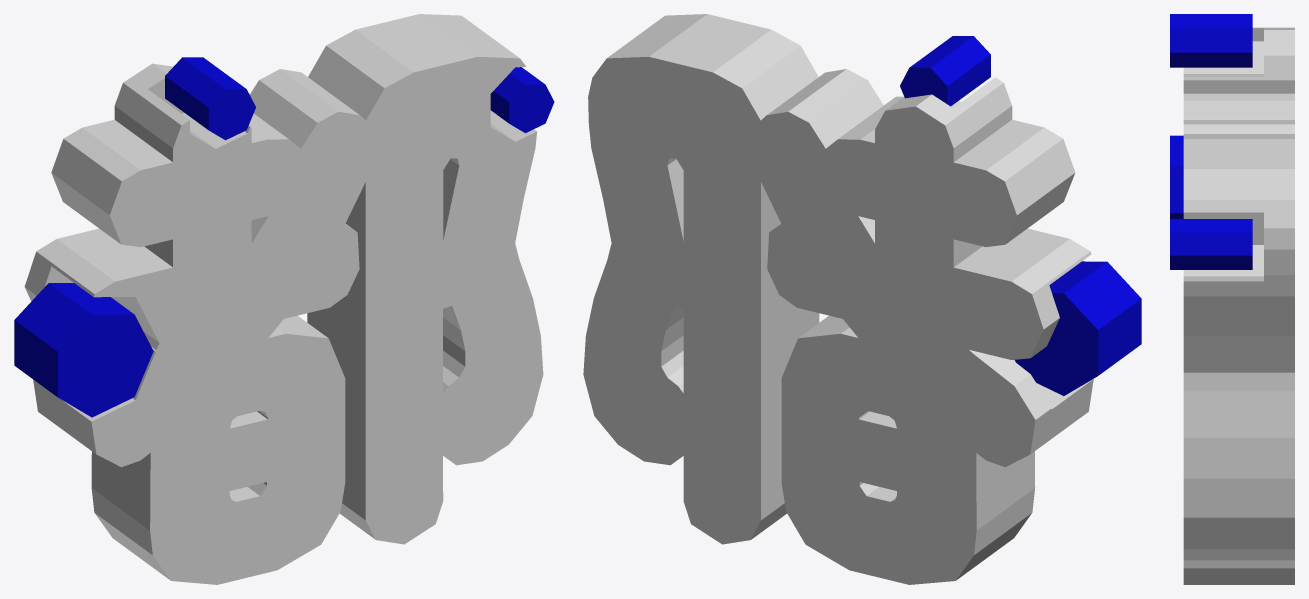
Rendered from Ch_Lite_China_都_01.fbx.
3 views of the same model, side by side, from view 1: azimuth 30°, elevation 25°; view 2: azimuth 150°, elevation 25°; view 3: azimuth 270°, elevation 25° (orthographic). The views are drawn at different scales.
Parts seen in each view (by area): view 1: sphere1; view 2: sphere1; view 3: sphere1.
Part boxes in pixels (bbox=[...]): sphere1: bbox=[14, 14, 554, 584]; sphere1: bbox=[583, 14, 1141, 584]; sphere1: bbox=[1170, 14, 1294, 584].
Size of the model in its own units: 0.9805 by 0.9542 by 0.2242.
